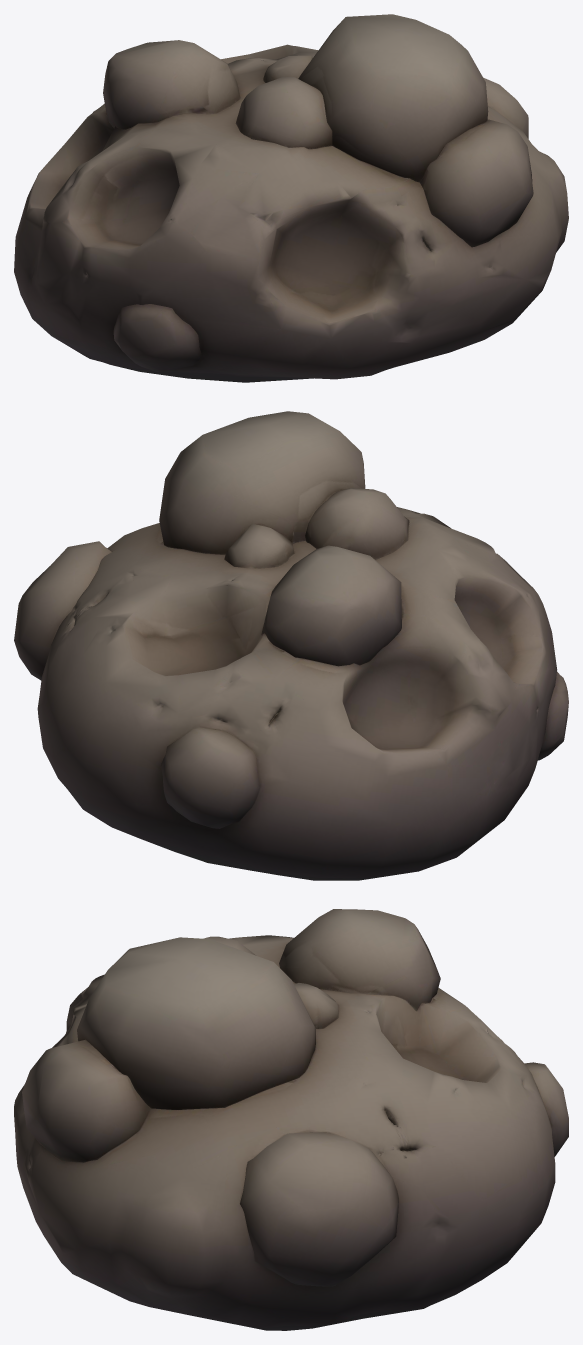
Rendered from original_glb.glb.
3 views of the same model, one above another, from view 1: azimuth 30°, elevation 25°; view 2: azimuth 150°, elevation 25°; view 3: azimuth 270°, elevation 25° (orthographic). The views are drawn at different scales.
Visible parts, largest first — view 1: Small Rubble Rock; view 2: Small Rubble Rock; view 3: Small Rubble Rock.
Part boxes in pixels (x1=…): Small Rubble Rock: x1=14, y1=14, x2=568, y2=382; Small Rubble Rock: x1=14, y1=411, x2=568, y2=880; Small Rubble Rock: x1=14, y1=909, x2=568, y2=1330.
Bounding box in the file's own units: 0.998 × 0.666 × 0.9473.
1 material, 1 textured.
